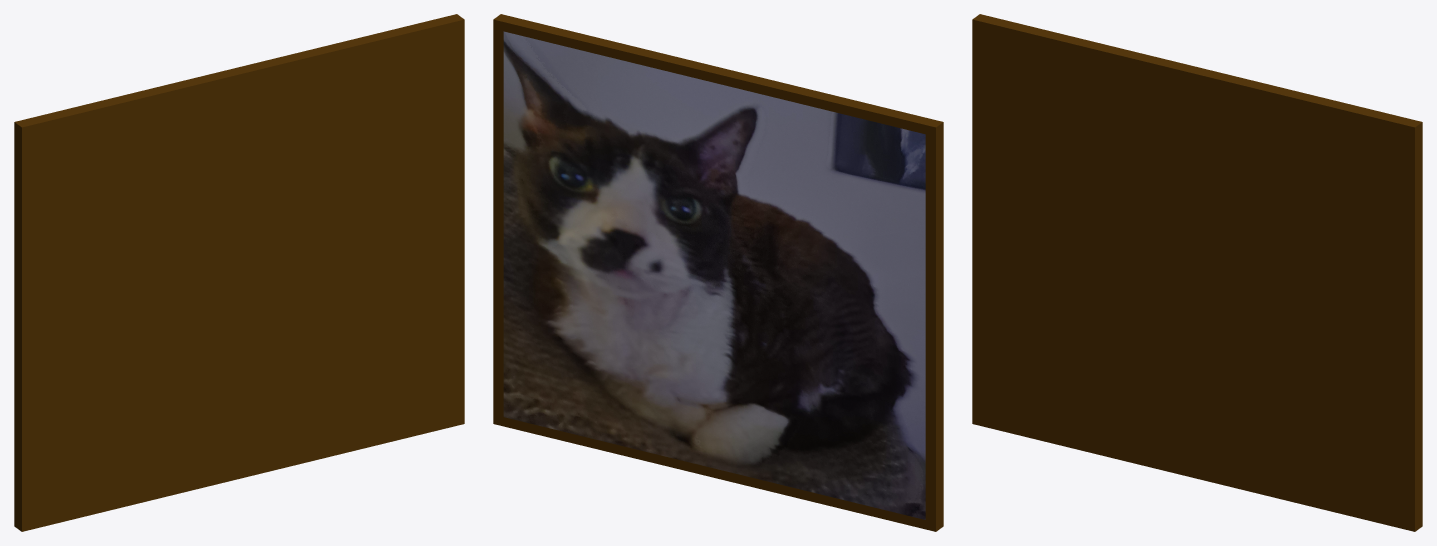
The model's file is prop_taulu_morri.fbx.
3 views of the same model, side by side, from view 1: azimuth 30°, elevation 25°; view 2: azimuth 150°, elevation 25°; view 3: azimuth 330°, elevation 25° (orthographic).
Parts seen in each view (by area): view 1: Cube; view 2: Cube; view 3: Cube.
Part boxes in pixels (box(x1,y1,x2,y2)): Cube: box(14, 14, 464, 531); Cube: box(493, 14, 943, 531); Cube: box(972, 14, 1422, 531).
Size of the model in its own units: 513 by 448 by 15.17.
Materials: 2 (1 with a texture image).
